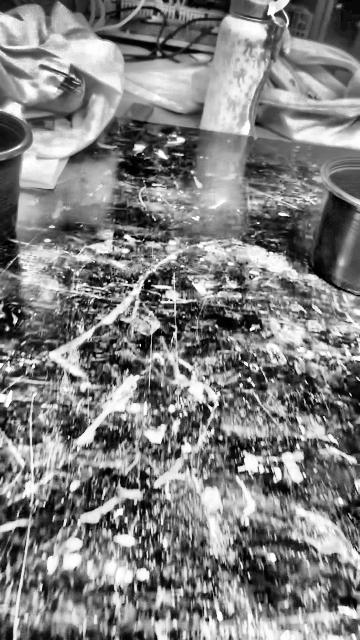pot: (311, 162, 360, 295), (0, 113, 31, 244)
